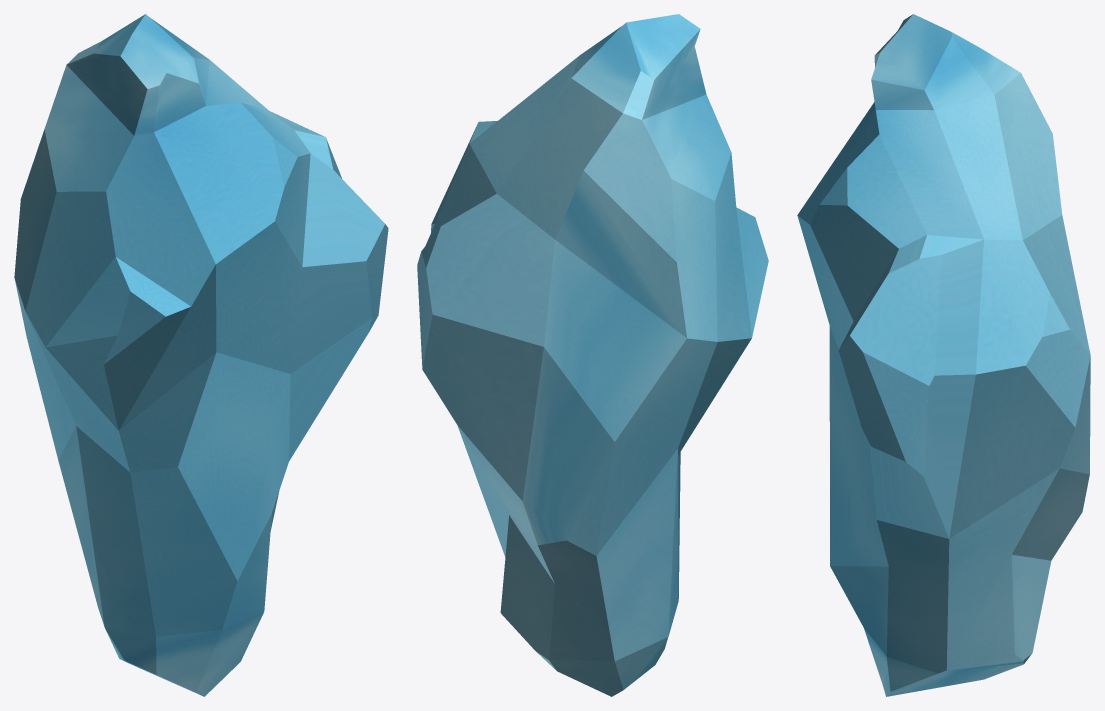
File: Crystal_Mesh.FBX
3 renders of one model, left to right at view 1: azimuth 30°, elevation 25°; view 2: azimuth 150°, elevation 25°; view 3: azimuth 270°, elevation 25°, orthographic. The views are drawn at different scales.
Visible parts, largest first — view 1: Crystal; view 2: Crystal; view 3: Crystal.
Part boxes in pixels (x1,y1,x2,y2): Crystal: (14,14,388,696); Crystal: (417,14,768,696); Crystal: (797,14,1090,696).
Size of the model in its own units: 182 by 356 by 145.
